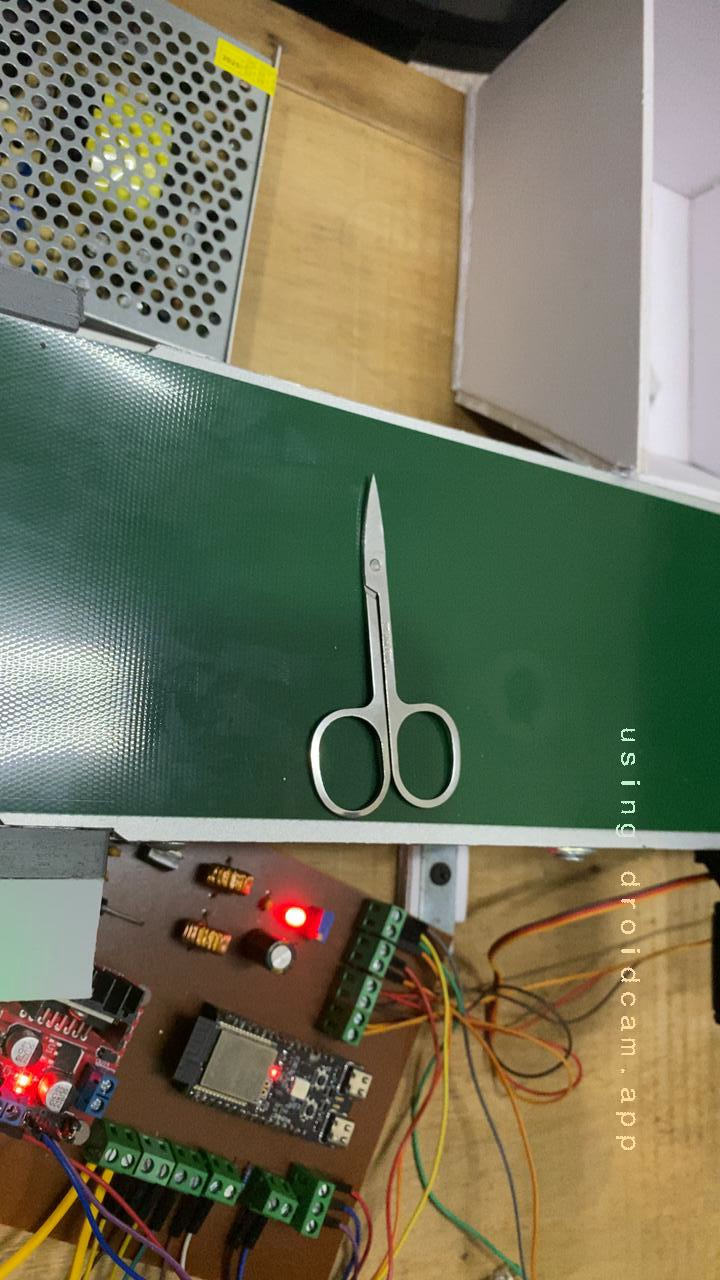scissor: (261, 461, 487, 828)
